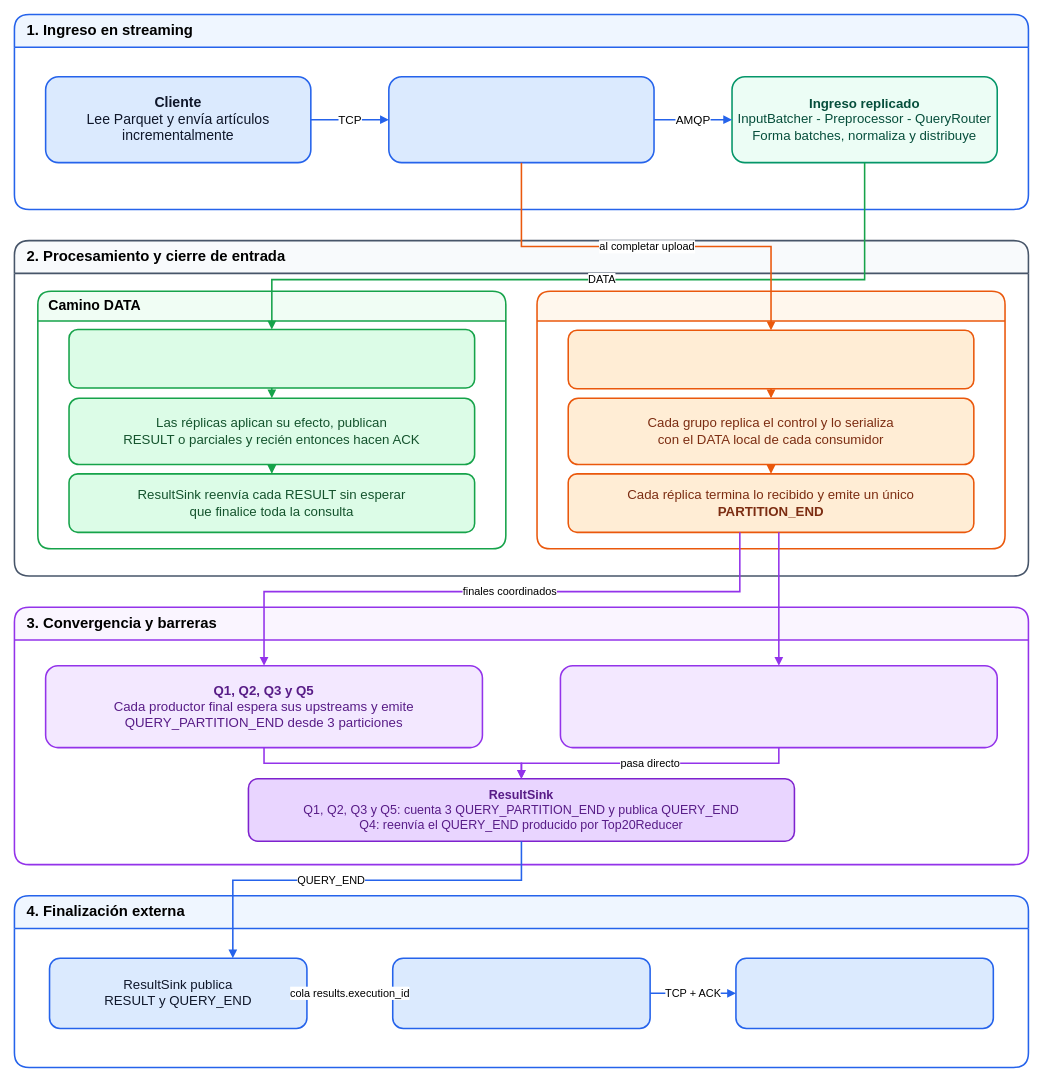
Some shapes in this 1042 by 1081 pixel diagram are drawn without their labels. Each missing label, with the box of its shape:
Camino de control: (536, 290, 1005, 549)
Cliente confirma cada mensaje y finaliza la ejecución: (735, 957, 994, 1029)
Después del último artículo, Gateway publica INPUT_END para la ejecución: (567, 329, 974, 389)
Gateway Crea execution_id y reply_queue Publica cada artículo: (388, 76, 654, 163)
Gateway cuenta los 5 QUERY_END y deja de consumir resultados: (392, 957, 651, 1029)
Los batches siguen en vuelo por colas compartidas y particionadas: (68, 328, 475, 388)
Q4 Top20Reducer espera los 3 tops parciales y emite QUERY_END directamente: (559, 665, 998, 748)
